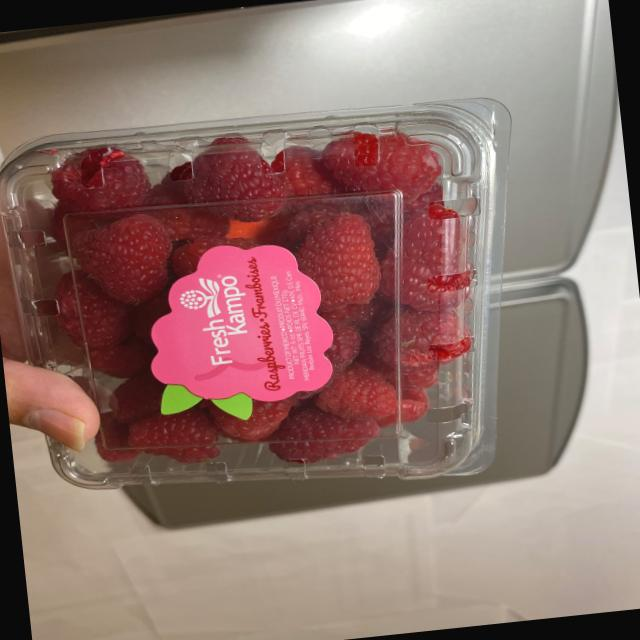raspberries: (37, 100, 494, 498)
